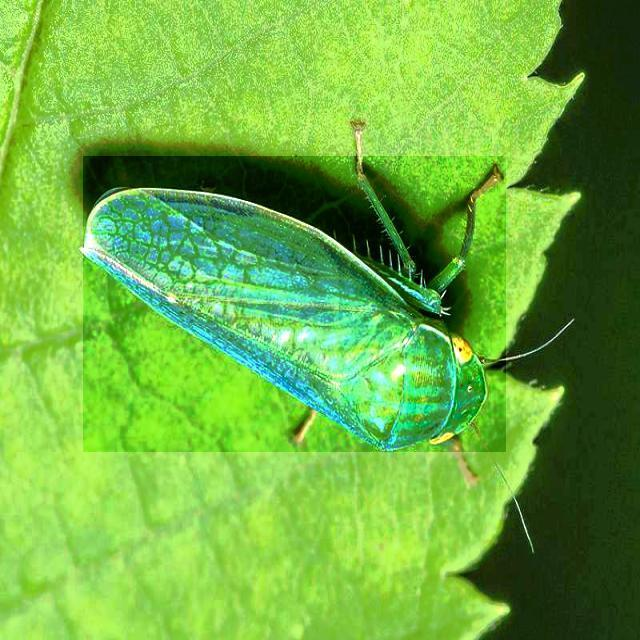green-leafhopper: (83, 157, 506, 453)
